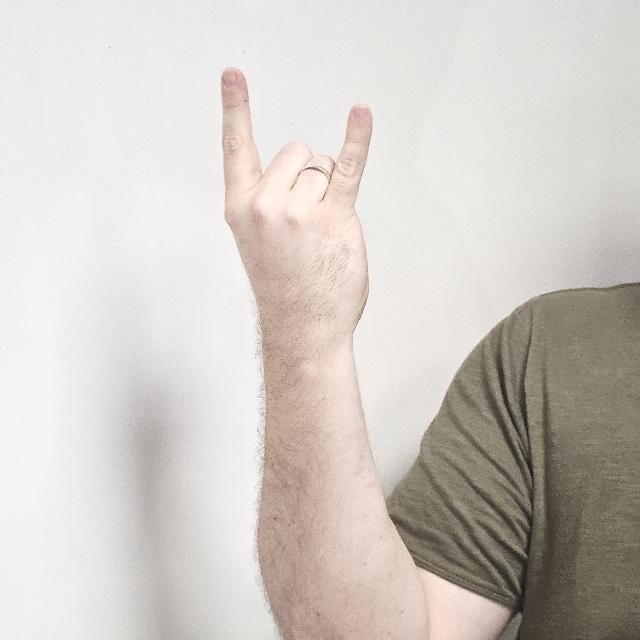L: (218, 65, 374, 348)
